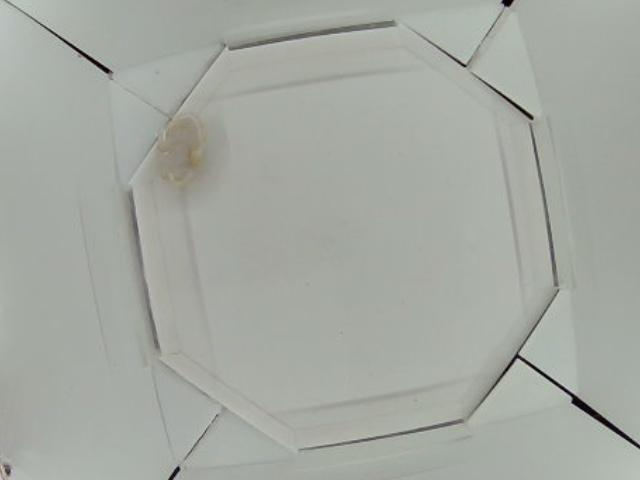Pebble: (159, 110, 207, 184)
